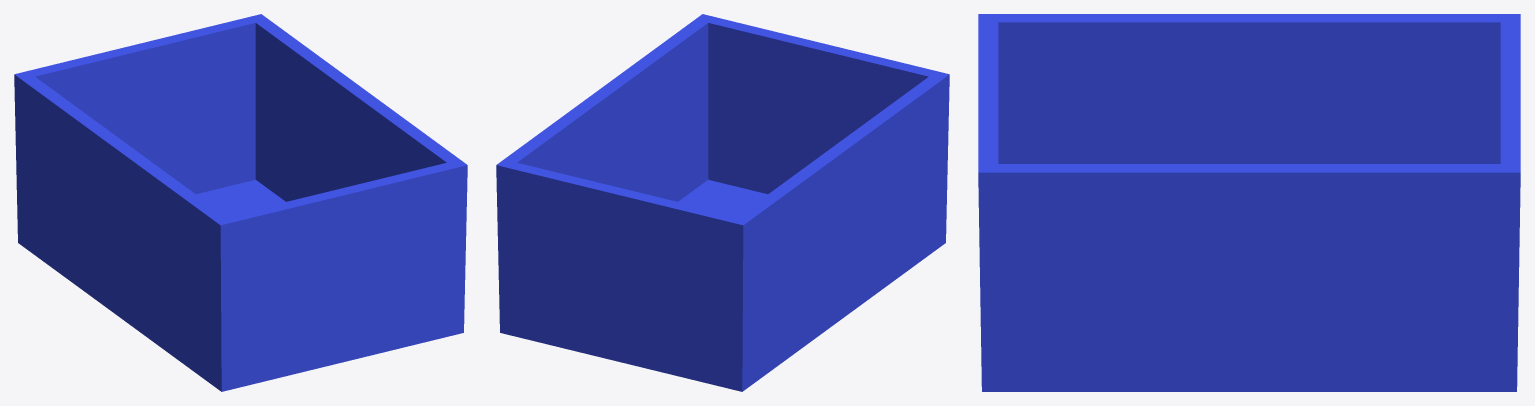
Rendered from Box_blue.gltf.
3 renders of one model, left to right at view 1: azimuth 30°, elevation 25°; view 2: azimuth 150°, elevation 25°; view 3: azimuth 270°, elevation 25°, orthographic. The views are drawn at different scales.
Parts seen in each view (by area): view 1: Box_blue; view 2: Box_blue; view 3: Box_blue.
Boxes of the visible parts, <box> form: Box_blue: <box>14,14,467,391</box>; Box_blue: <box>496,14,949,391</box>; Box_blue: <box>978,14,1520,391</box>.
Size of the model in its own units: 13.23 by 8.6 by 19.13.
